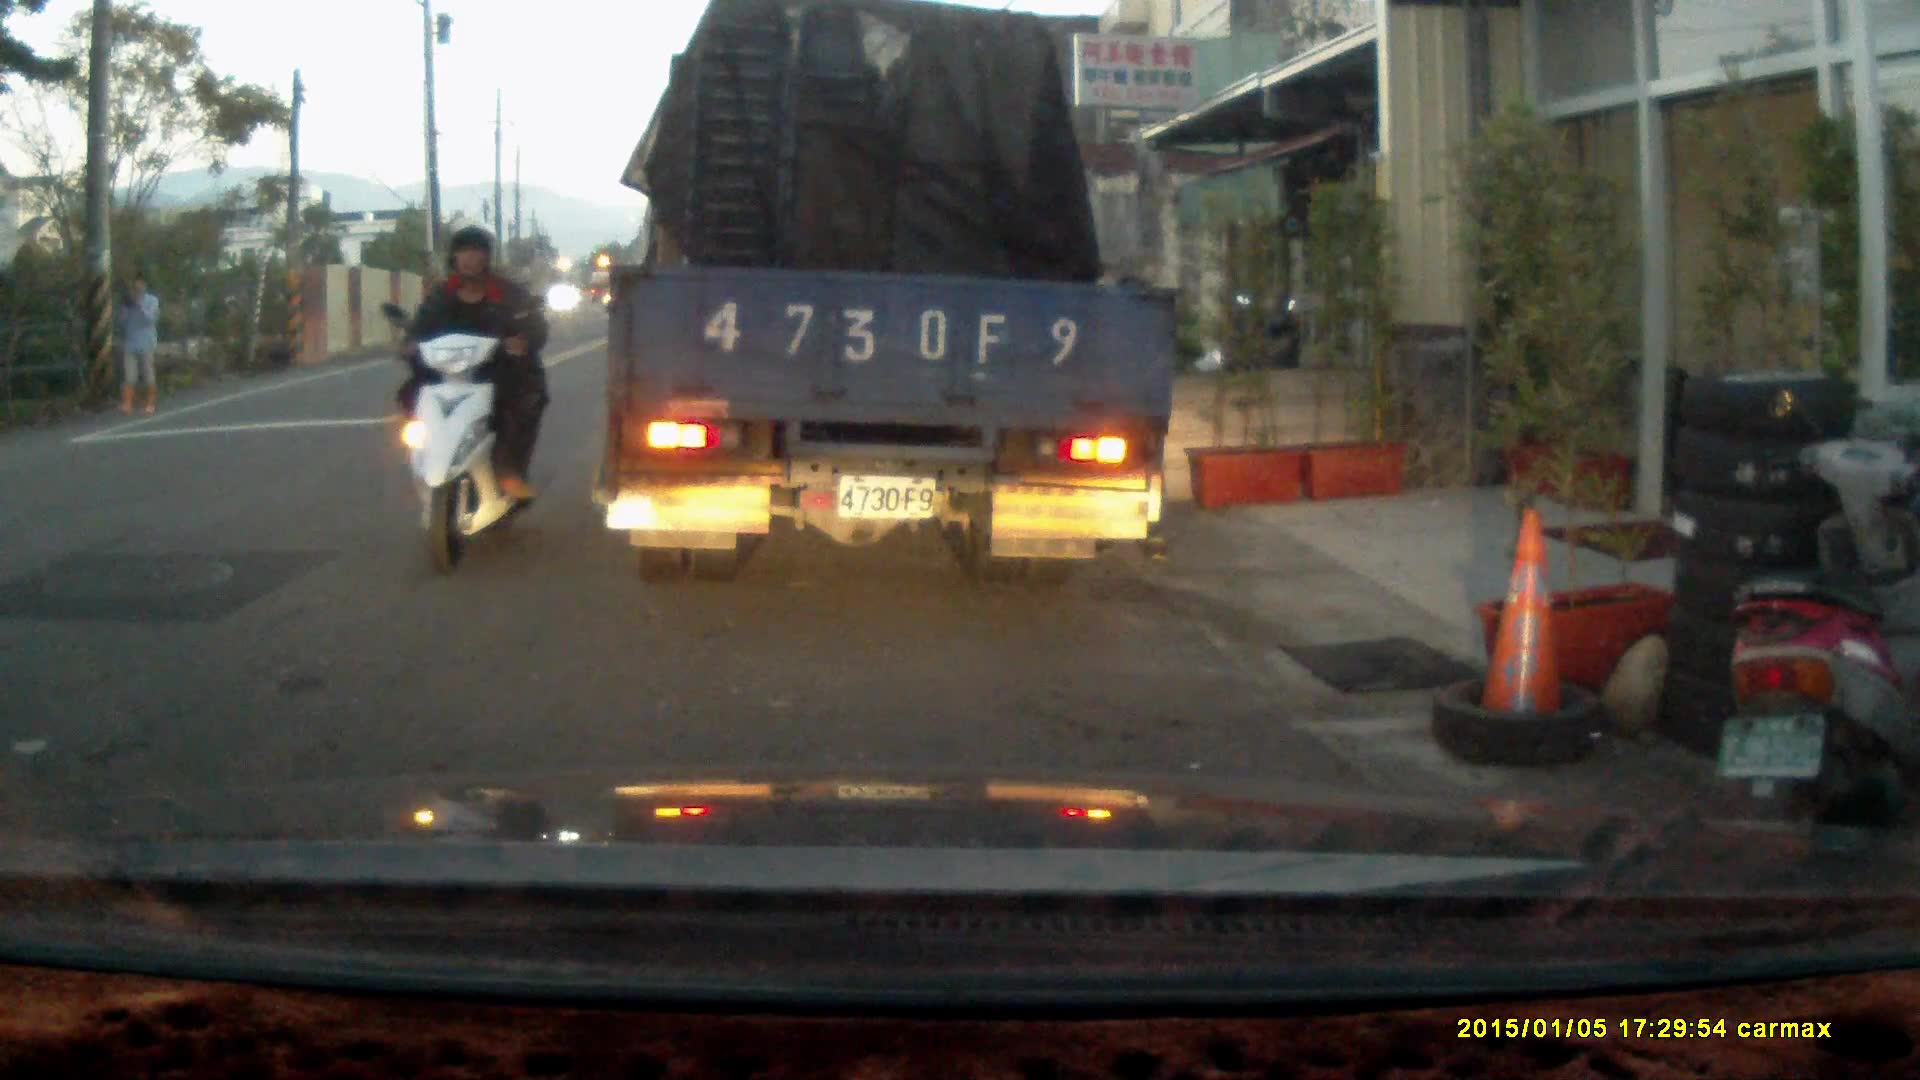pedestrian: (112, 272, 163, 420)
rider: (376, 214, 553, 578)
vehicle: (602, 23, 1188, 572)
